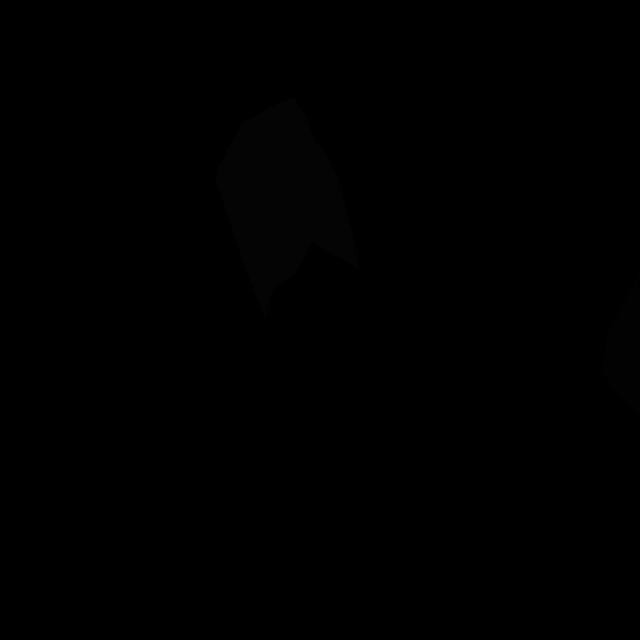cardboard: (600, 272, 640, 418)
soft_plastic: (216, 97, 359, 318)
